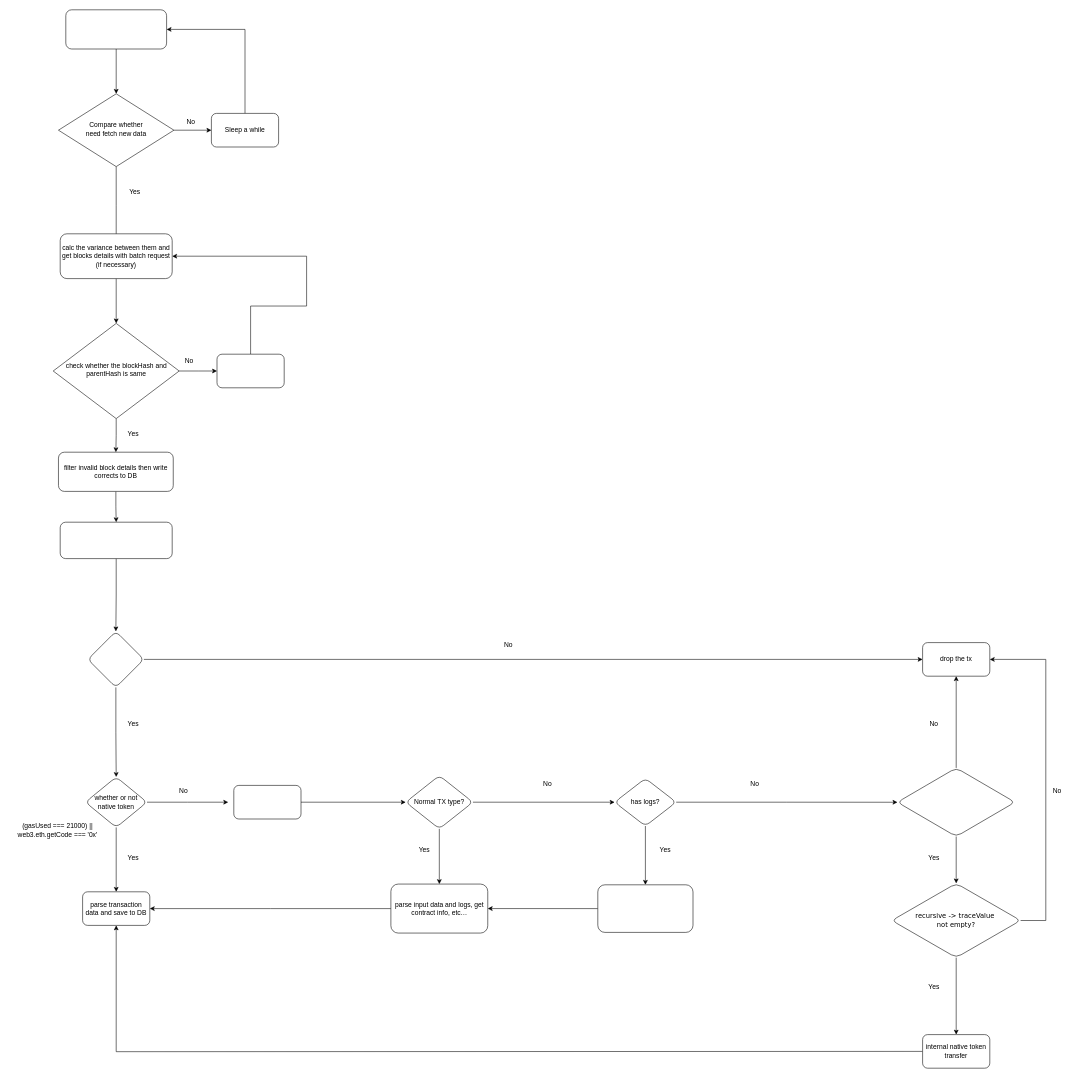
The diagram is 1077 pixels wide and 1078 high, and some of its shapes have lost their labels. Each missing label, with the centre of its shape:
address weather in whitelist: point 115,659
can parsed by debug_traceTransaction?: point 956,802
check contract type through code: point 267,802
delete DB's data and reduce blockHeight 1 to fetch prev block: point 250,371
get block transactions and iterate to parse them: point 116,540
get chain's current block height Simultaneous get DB latest block height: point 116,29
iterate the logs and find out transfer or approve or withdraw…: point 645,908
